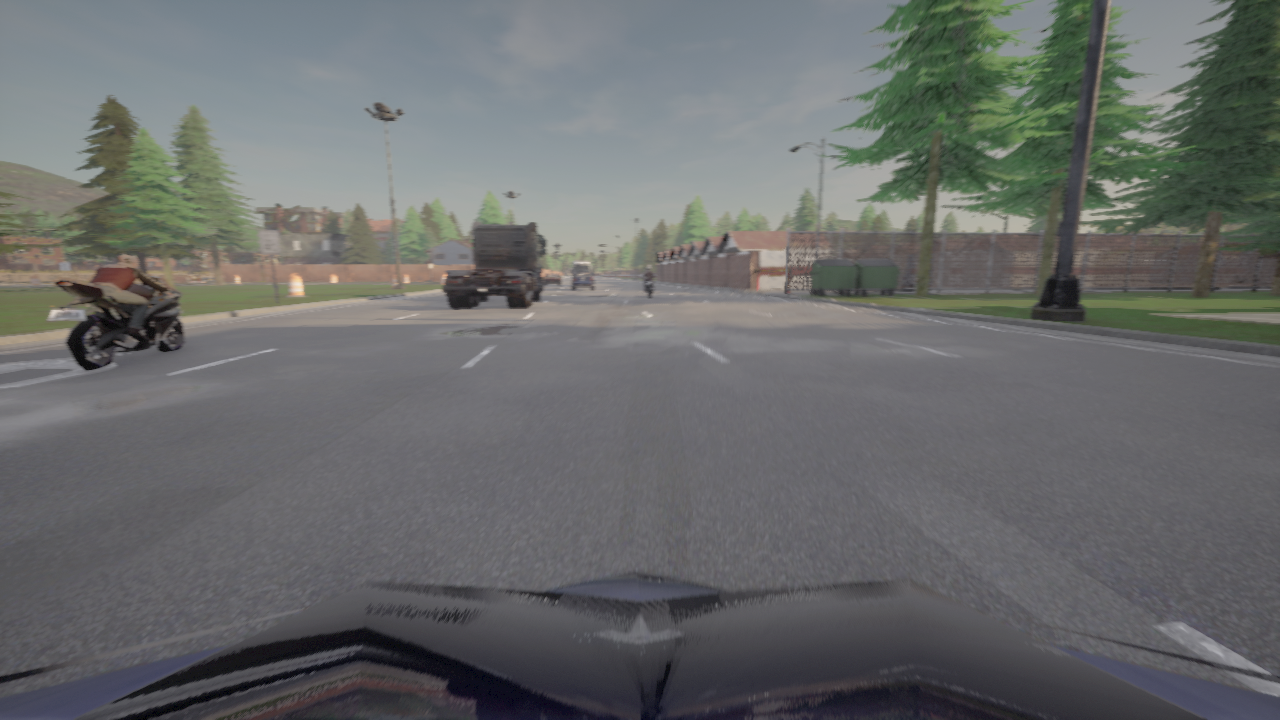cyclist: (0, 569, 1279, 719), (47, 274, 186, 370), (443, 222, 545, 307), (571, 270, 593, 289), (571, 260, 592, 274), (544, 273, 560, 283), (645, 277, 652, 296)
